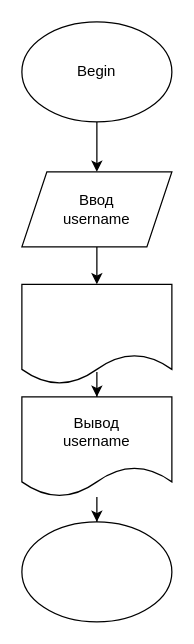
This 194x644 diagram has some shape labels left out. Here are the shapes that lost their labels. From the top down, the centre of each, then its label:
(96,333): Вывод "Привет, "
(96,571): End
